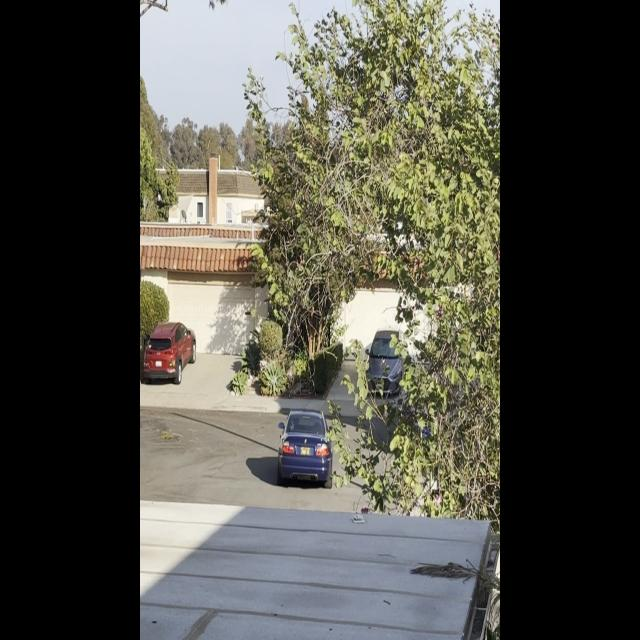Carbeetle: (271, 406, 338, 499)
Civilian: (140, 318, 199, 383), (363, 320, 409, 403)
